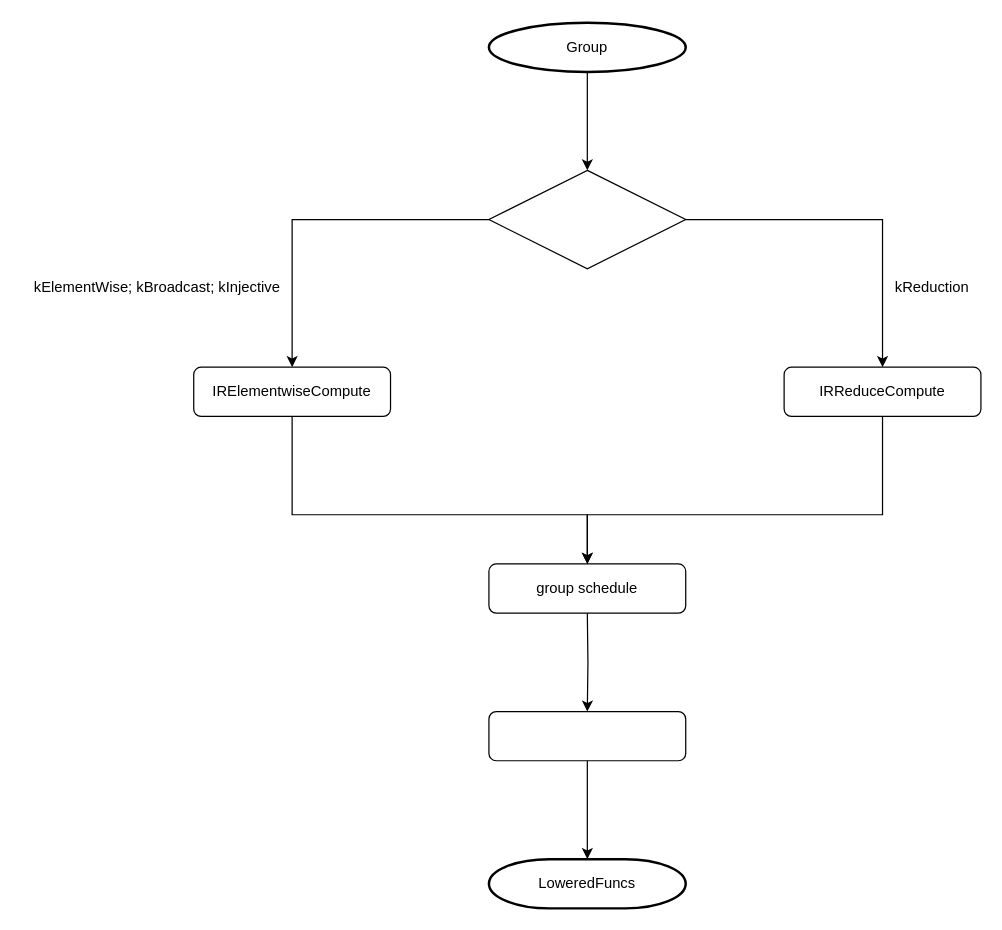
This 1002x930 diagram has some shape labels left out. Each missing label, with the box of its shape:
low level optimize: (488, 710, 686, 761)
op_pattern_kind: (488, 169, 686, 269)
